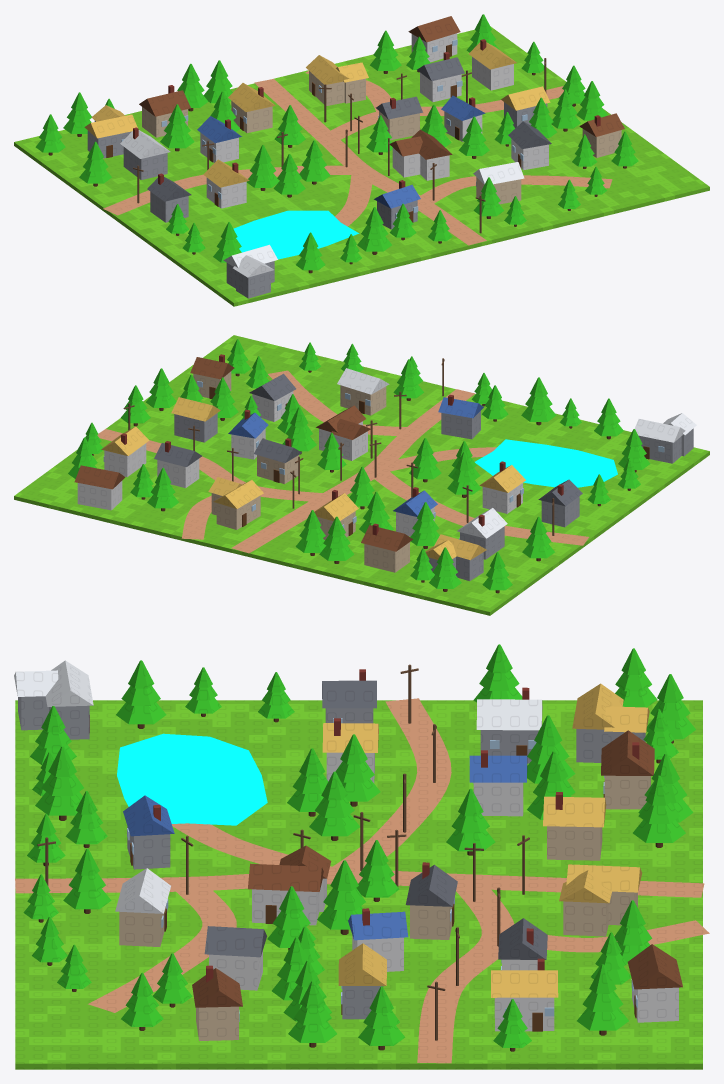
The model's file is Ville_01.glb.
3 views of the same model, one above another, from view 1: azimuth 30°, elevation 25°; view 2: azimuth 150°, elevation 25°; view 3: azimuth 270°, elevation 25° (orthographic). The views are drawn at different scales.
Parts seen in each view (by area): view 1: Ville_01; view 2: Ville_01; view 3: Ville_01.
Boxes of the visible parts, box(x1,y1,x2,y2) form: Ville_01: box(14, 14, 709, 306); Ville_01: box(14, 335, 709, 615); Ville_01: box(14, 644, 709, 1069).
Size of the model in its own units: 40.21 by 4.04 by 32.39.
17 materials, 12 textured.
